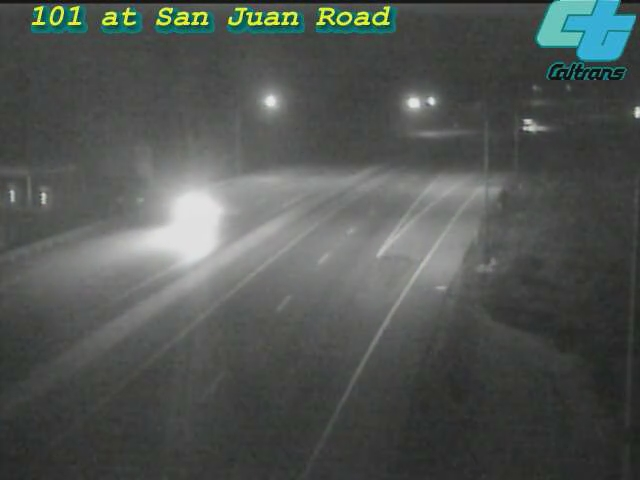vehicle: (157, 168, 237, 248), (514, 99, 564, 149)
